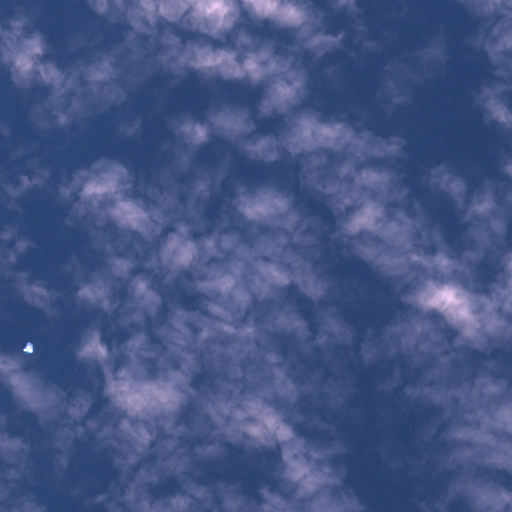Iceberg: (23, 342, 33, 352)
